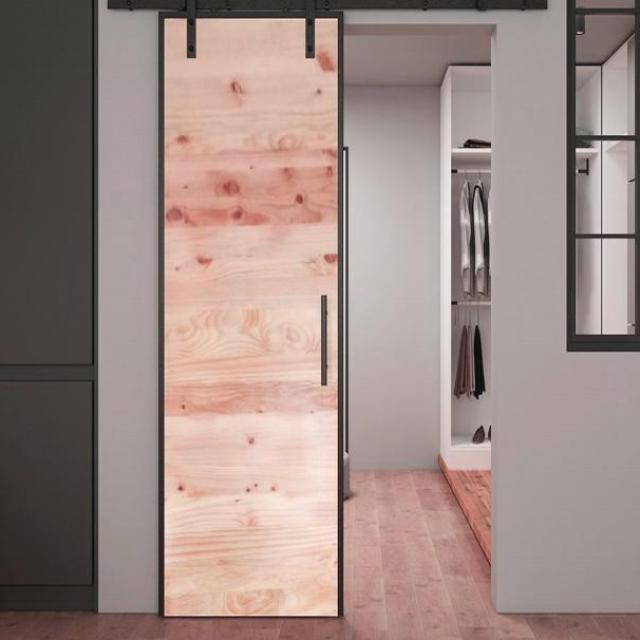door: (158, 10, 344, 618)
